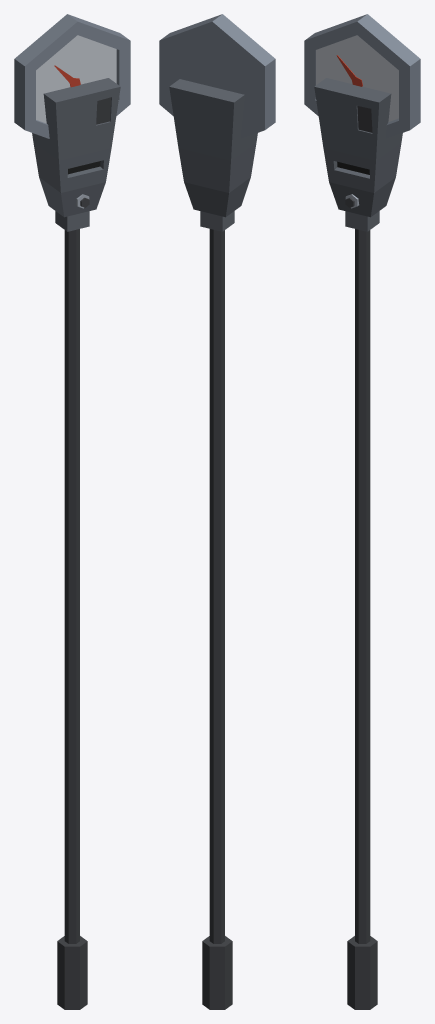
Rendered from Road_Objects_Park_Meter.fbx.
The picture shows the model from 3 angles, left to right: view 1: azimuth 30°, elevation 25°; view 2: azimuth 150°, elevation 25°; view 3: azimuth 330°, elevation 25°; orthographic projection.
Parts seen in each view (by area): view 1: Road_Objects_Park_Meter; view 2: Road_Objects_Park_Meter; view 3: Road_Objects_Park_Meter.
Boxes of the visible parts, <box> form: Road_Objects_Park_Meter: <box>14,14,130,1009</box>; Road_Objects_Park_Meter: <box>159,14,275,1009</box>; Road_Objects_Park_Meter: <box>304,14,420,1009</box>.
Bounding box in the file's own units: 15.83 × 141 × 8.19.
